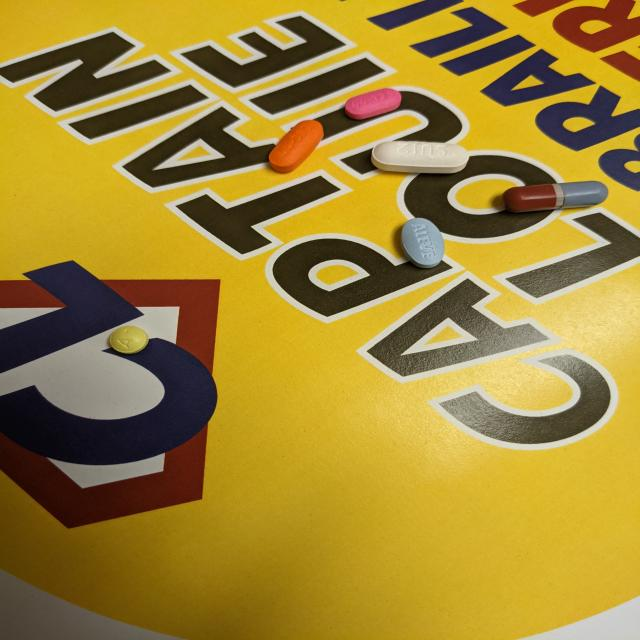non-organic waste: (501, 179, 609, 214), (369, 139, 470, 174), (268, 120, 325, 174), (399, 218, 446, 269), (343, 87, 402, 121), (108, 324, 150, 354)
